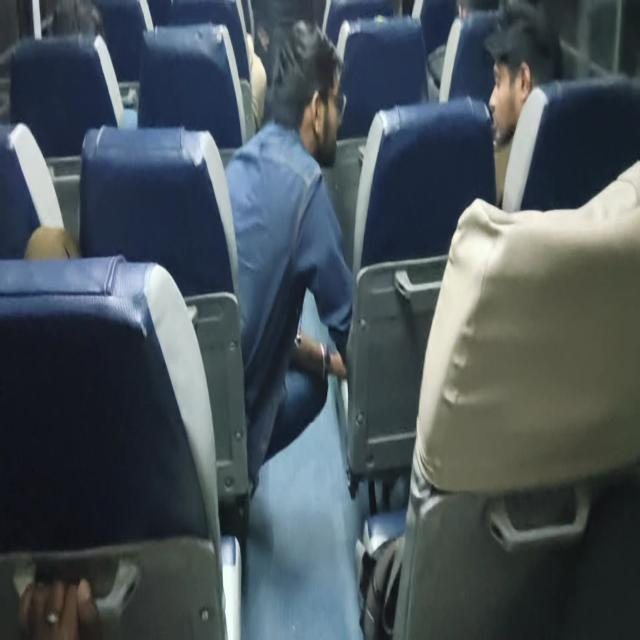person: (277, 42, 345, 160), (484, 25, 550, 130), (49, 0, 109, 56)
